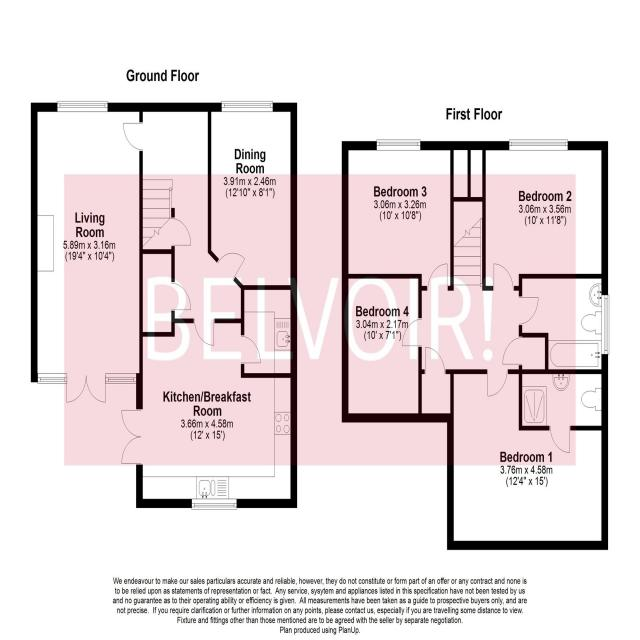DOOR: (216, 251, 247, 281), (401, 316, 422, 348), (192, 318, 215, 347), (518, 295, 539, 326), (240, 334, 261, 365), (549, 426, 571, 454), (492, 263, 514, 291), (426, 263, 448, 291), (487, 369, 508, 397)
DOUBLE DOOR: (120, 407, 143, 466), (66, 372, 107, 404)
ROOM: (30, 100, 143, 404), (121, 319, 298, 510), (447, 369, 609, 551), (482, 139, 608, 291), (341, 139, 454, 291), (207, 101, 297, 291), (341, 273, 422, 423)
WINDOW: (509, 139, 568, 151), (221, 100, 273, 113), (56, 100, 108, 113), (191, 498, 237, 510), (601, 294, 610, 355), (376, 139, 421, 151), (37, 372, 67, 384), (105, 373, 137, 384)
